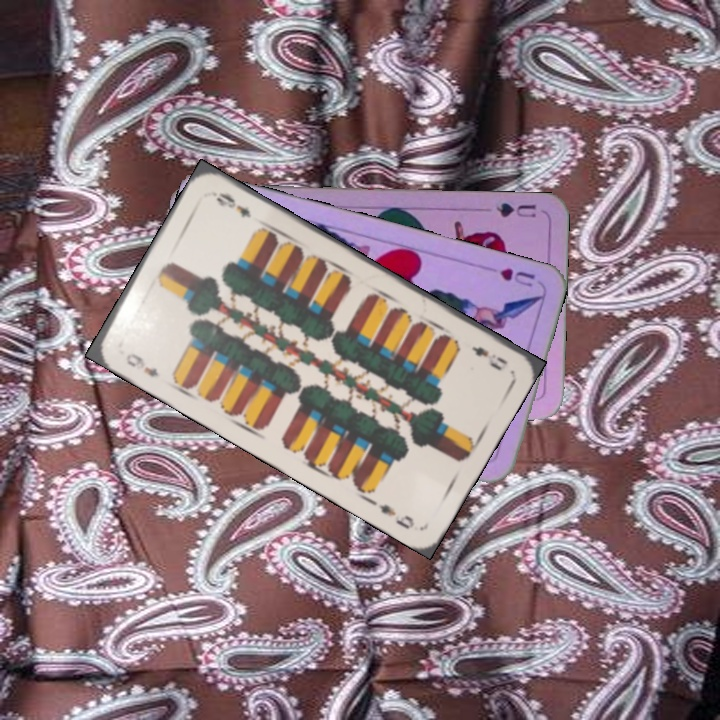E9: (467, 342, 510, 374), (121, 349, 161, 380)
GU: (492, 198, 538, 220)
HU: (496, 264, 538, 290)
